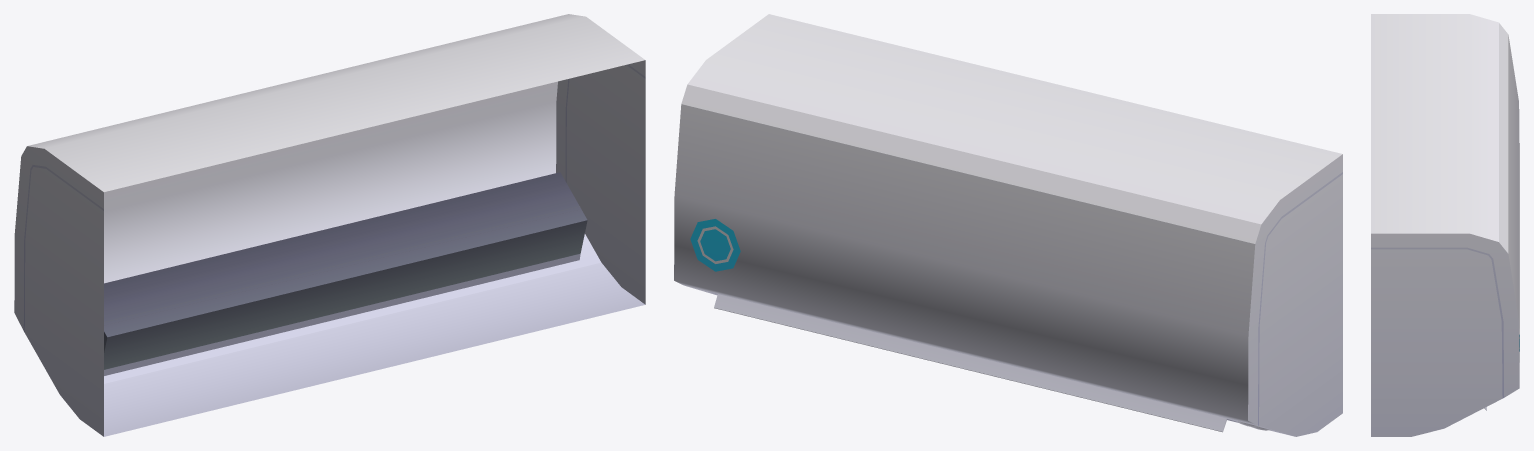
File: CR_Aircon_001.FBX
3 renders of one model, left to right at view 1: azimuth 30°, elevation 25°; view 2: azimuth 150°, elevation 25°; view 3: azimuth 270°, elevation 25°, orthographic. The views are drawn at different scales.
Parts seen in each view (by area): view 1: CR_Aircon_001; view 2: CR_Aircon_001; view 3: CR_Aircon_001.
Part boxes in pixels (x1,y1,x2,y2): CR_Aircon_001: [14, 14, 645, 436]; CR_Aircon_001: [674, 14, 1342, 436]; CR_Aircon_001: [1371, 14, 1519, 436].
Bounding box in the file's own units: 85.31 × 36.83 × 24.45.
1 material, 1 textured.
